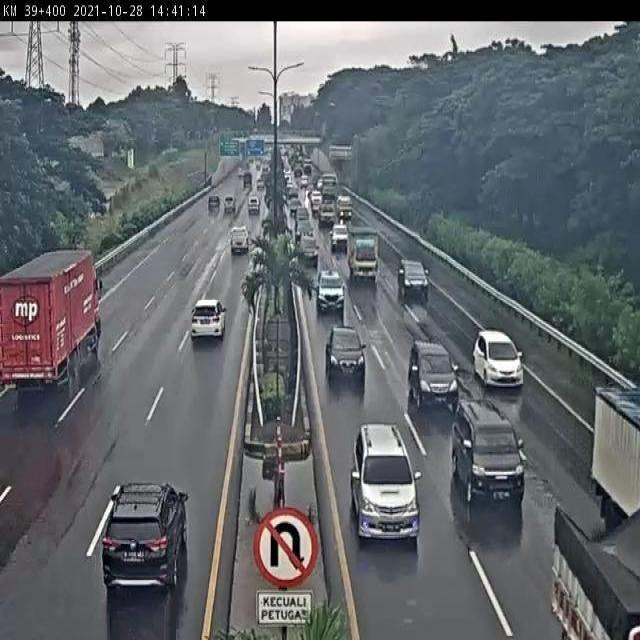ARABA: (102, 480, 188, 596), (352, 423, 421, 540), (450, 400, 524, 504), (409, 341, 459, 407), (473, 331, 524, 386), (326, 327, 366, 381), (190, 298, 226, 338), (397, 258, 429, 298), (317, 268, 345, 313)
KAMYONET: (0, 248, 102, 401), (347, 227, 379, 281)
